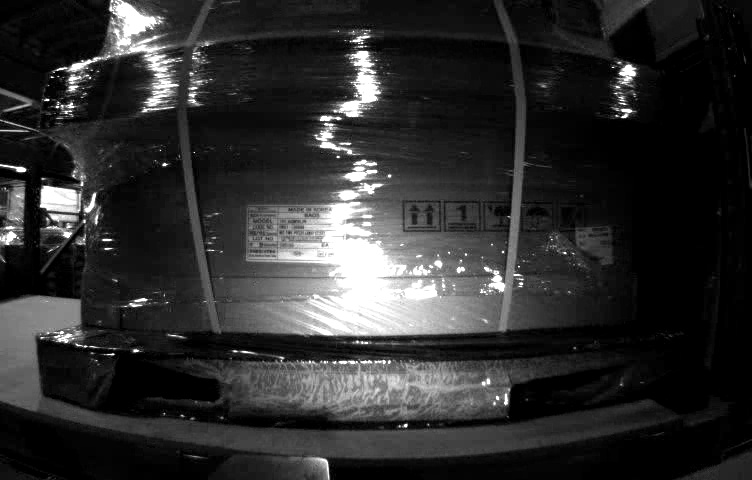True Barcode: (573, 226, 614, 267)
